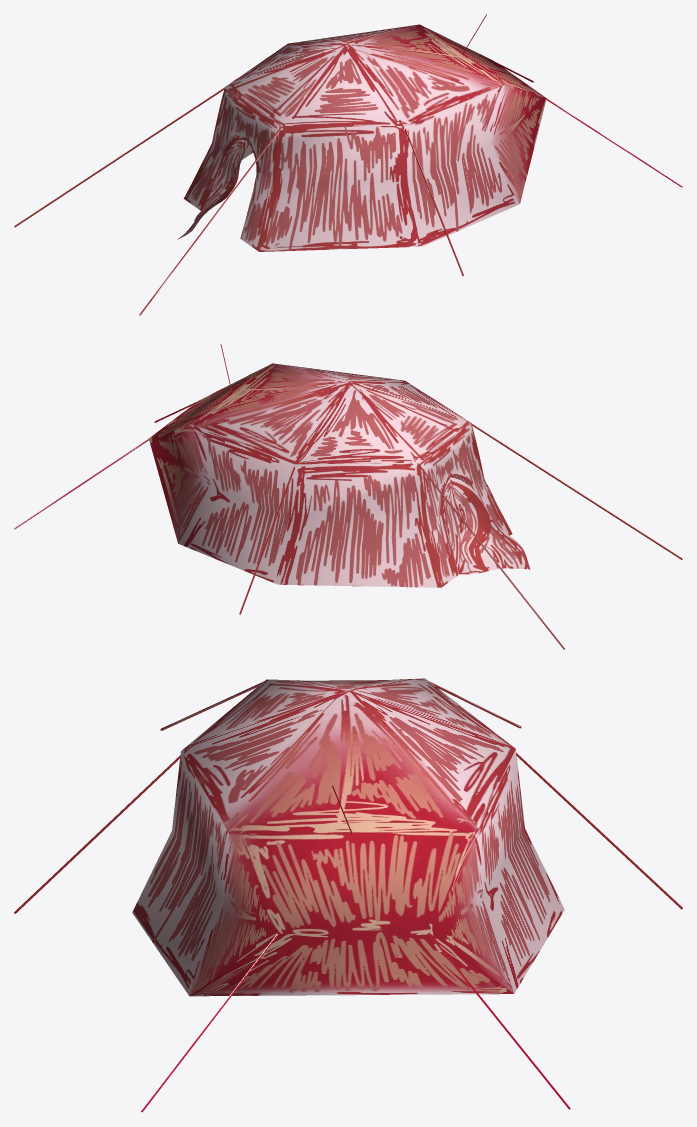
The model's file is tent1_1953.glb.
3 views of the same model, one above another, from view 1: azimuth 30°, elevation 25°; view 2: azimuth 150°, elevation 25°; view 3: azimuth 270°, elevation 25° (orthographic). The views are drawn at different scales.
Parts seen in each view (by area): view 1: tent1_1953; view 2: tent1_1953; view 3: tent1_1953.
Boxes of the visible parts, box(x1,y1,x2,y2) form: tent1_1953: box(14, 14, 682, 315); tent1_1953: box(14, 344, 682, 649); tent1_1953: box(14, 678, 682, 1112).
Size of the model in its own units: 12.27 by 3.48 by 8.94.
1 material, 1 textured.
